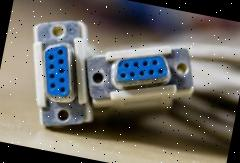electronic: (73, 27, 213, 142)
